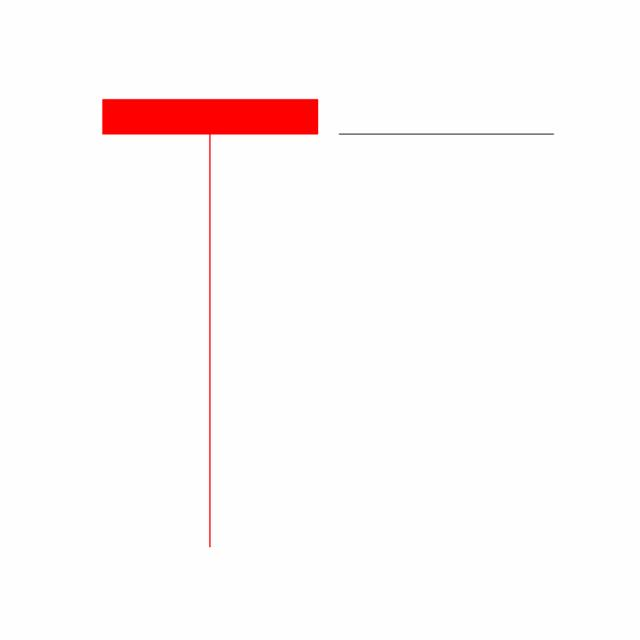Hanging Man: (328, 133, 564, 135)
